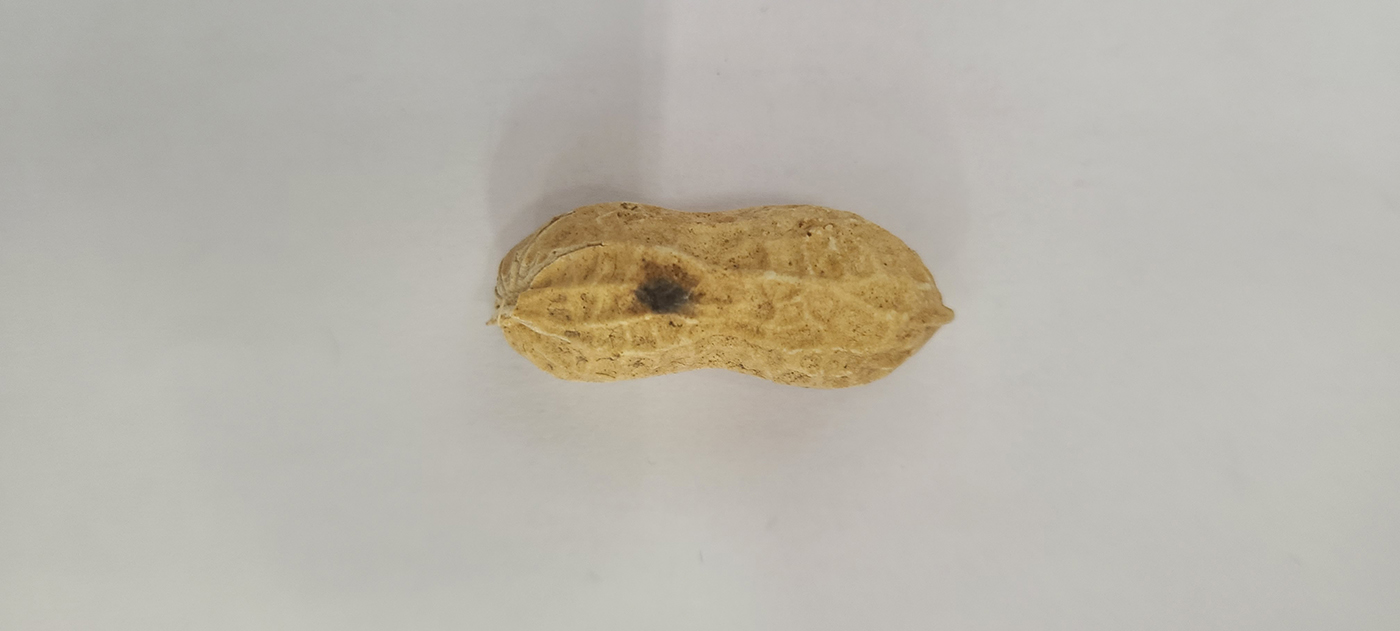h: (493, 199, 954, 390)
